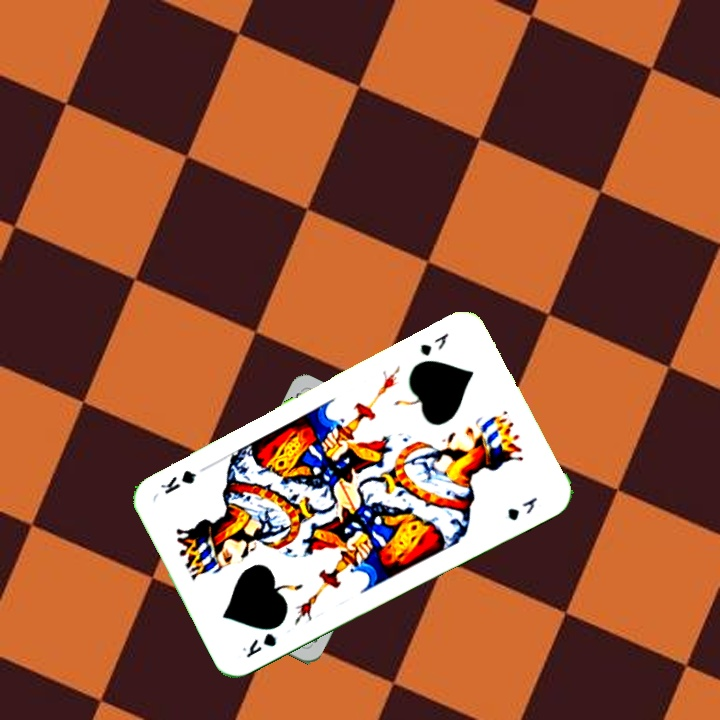GK: (238, 628, 279, 661), (416, 328, 452, 359)
